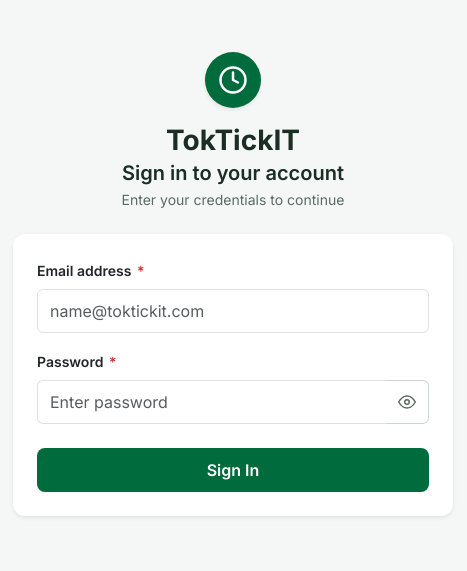
Test: Login Component — UI-01 (AC-01, FR-01, FR-02) › validates required inputs and displays error when submitting empty fields
The image size is (467, 571).
Click the button "Sign In". click: (233, 470)
box: [37,448,429,492]
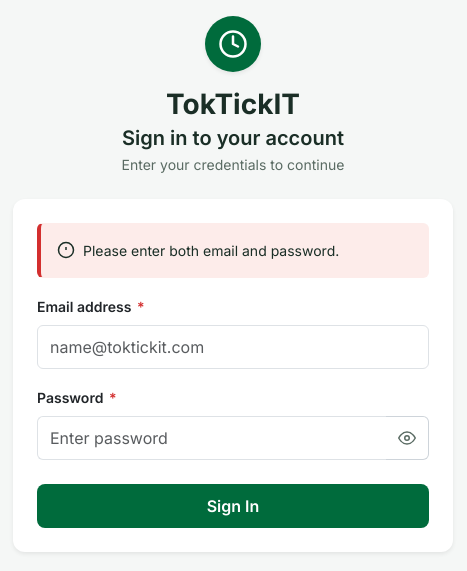
Expected: the message reads "Please enter both email and password.", [83,242,339,259]
